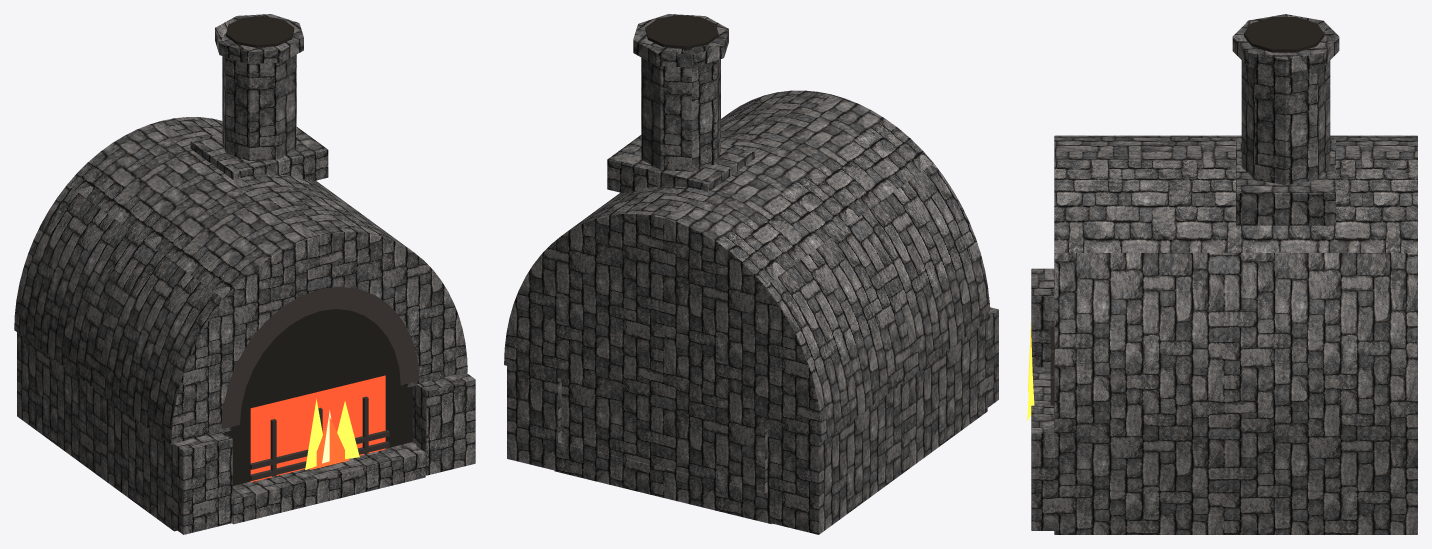
Rendered from Kiln.glb.
3 views of the same model, side by side, from view 1: azimuth 30°, elevation 25°; view 2: azimuth 150°, elevation 25°; view 3: azimuth 270°, elevation 25° (orthographic). The views are drawn at different scales.
Parts seen in each view (by area): view 1: Kiln, Kiln_Flame; view 2: Kiln; view 3: Kiln.
Part boxes in pixels (x1,y1,x2,y2): Kiln: [14, 14, 475, 534]; Kiln_Flame: [305, 399, 359, 469]; Kiln: [504, 14, 998, 534]; Kiln: [1031, 14, 1417, 534].
Bounding box in the file's own units: 0.7801 × 0.9644 × 0.7705.
Materials: 8 (1 with a texture image).
